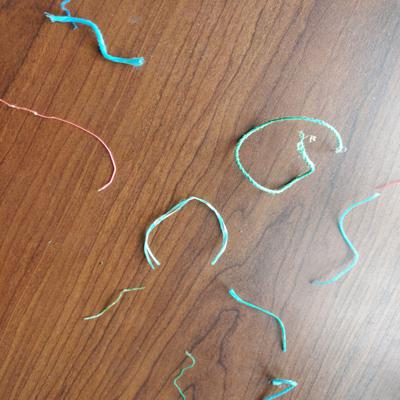thread: (1, 87, 129, 195), (232, 113, 352, 199), (307, 190, 385, 292), (170, 346, 303, 400), (140, 194, 232, 270), (39, 9, 151, 70), (226, 286, 292, 354), (82, 281, 151, 331), (59, 1, 82, 33), (366, 175, 400, 190)
